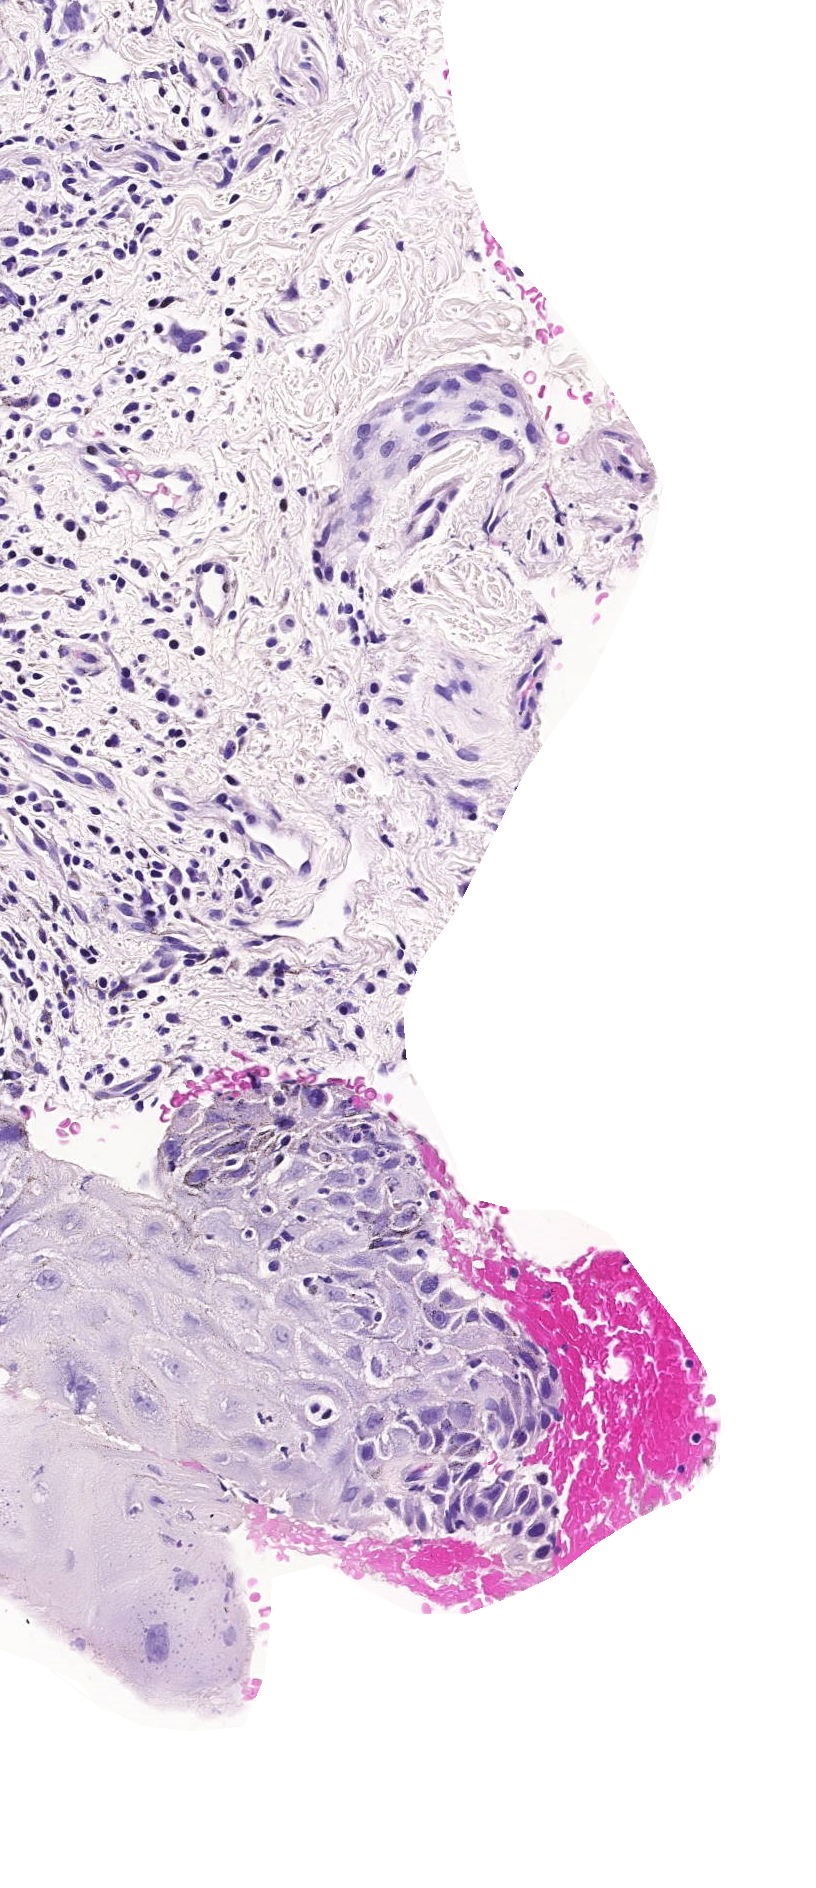epithelial: (156, 1638, 162, 1647), (138, 1398, 148, 1404), (175, 1262, 187, 1267), (241, 1298, 248, 1305), (469, 1444, 477, 1451), (490, 1317, 498, 1323), (278, 1331, 283, 1340), (130, 1087, 138, 1092), (351, 1349, 357, 1355), (45, 1275, 51, 1281), (290, 1299, 296, 1305), (536, 1527, 542, 1533), (477, 1506, 483, 1512), (253, 1441, 261, 1445), (309, 1208, 318, 1211), (162, 1536, 168, 1541), (175, 1365, 179, 1371), (70, 1220, 76, 1225), (427, 1414, 433, 1418), (527, 1506, 533, 1511), (437, 1312, 440, 1320), (182, 1579, 187, 1583), (317, 1355, 321, 1359), (442, 1294, 447, 1299), (526, 1357, 531, 1362), (469, 1469, 474, 1474), (67, 1554, 71, 1560), (338, 1274, 344, 1278), (187, 1316, 193, 1320), (388, 1161, 394, 1164), (227, 1630, 230, 1638), (153, 1497, 158, 1500), (278, 1464, 285, 1467), (319, 1430, 323, 1435), (428, 1282, 432, 1287), (528, 1421, 532, 1426), (505, 1410, 508, 1417), (459, 1438, 466, 1440), (338, 1199, 343, 1203), (338, 1175, 342, 1180), (359, 1152, 363, 1156), (314, 1096, 318, 1101), (468, 1499, 471, 1505), (195, 1175, 201, 1178), (153, 1467, 156, 1470), (362, 1310, 366, 1314), (284, 1120, 288, 1123), (167, 1144, 171, 1147), (344, 1320, 349, 1322), (531, 1343, 533, 1347), (545, 1383, 546, 1393), (424, 1436, 426, 1441), (442, 1479, 444, 1483), (100, 1095, 105, 1097), (153, 1225, 156, 1227), (335, 1293, 338, 1296), (410, 1422, 413, 1426), (521, 1495, 524, 1499), (149, 1076, 153, 1079), (125, 1082, 129, 1085), (422, 1518, 424, 1524), (552, 1369, 554, 1374), (545, 1417, 546, 1421), (434, 1498, 438, 1499), (219, 1457, 221, 1458), (505, 1474, 507, 1476), (527, 1390, 528, 1392), (156, 1068, 158, 1070), (323, 1246, 324, 1247)
fibroblast and endothelial: (384, 447, 391, 453), (420, 406, 428, 411), (422, 503, 428, 509), (622, 468, 628, 474), (250, 161, 255, 169), (40, 932, 45, 939), (531, 427, 534, 436), (403, 675, 409, 680), (505, 470, 510, 476), (146, 157, 153, 160), (462, 754, 469, 757), (32, 720, 37, 725), (104, 778, 108, 783), (176, 791, 181, 796), (64, 179, 70, 183), (20, 271, 26, 275), (79, 732, 85, 736), (81, 778, 87, 781), (122, 908, 128, 911), (177, 873, 181, 879), (175, 806, 181, 809), (434, 437, 440, 441), (521, 675, 525, 682), (146, 73, 154, 76), (323, 282, 326, 287), (104, 476, 107, 480), (39, 747, 43, 750), (37, 840, 42, 844), (144, 896, 149, 899), (155, 787, 159, 792), (236, 824, 240, 828), (5, 958, 8, 963), (20, 972, 24, 977), (487, 433, 492, 437), (428, 387, 433, 390), (475, 405, 483, 407), (347, 275, 350, 279), (156, 865, 162, 867), (252, 942, 258, 944), (144, 966, 150, 968), (168, 939, 175, 942), (181, 946, 187, 949), (509, 387, 512, 393), (357, 1029, 361, 1033), (93, 164, 96, 167), (262, 149, 266, 153), (270, 321, 273, 325), (205, 566, 208, 570), (71, 604, 75, 608), (6, 694, 10, 697), (67, 760, 71, 763), (413, 459, 416, 462), (504, 407, 508, 411), (536, 654, 539, 657), (170, 1017, 175, 1020), (255, 118, 260, 120), (120, 179, 125, 182), (164, 301, 168, 303), (318, 347, 320, 352), (129, 405, 134, 407), (104, 446, 106, 450), (112, 461, 117, 464), (317, 571, 319, 576), (327, 571, 329, 580), (25, 691, 30, 694), (87, 657, 91, 660), (22, 846, 26, 849), (162, 962, 167, 964), (450, 384, 455, 387), (469, 374, 474, 377), (525, 720, 527, 725), (465, 685, 469, 688), (408, 966, 410, 969), (39, 54, 41, 58), (296, 23, 300, 25), (282, 79, 285, 82), (178, 144, 182, 147), (14, 87, 17, 90), (277, 154, 279, 158), (227, 175, 229, 182), (231, 279, 233, 283), (144, 433, 147, 437), (90, 449, 94, 452), (112, 485, 116, 488), (159, 472, 162, 474), (326, 532, 329, 536), (36, 757, 39, 761), (137, 926, 141, 928), (153, 978, 155, 981), (396, 700, 400, 702), (321, 194, 324, 197), (537, 684, 539, 688), (85, 466, 91, 467), (20, 562, 26, 564), (422, 427, 424, 433), (256, 1033, 261, 1034), (398, 939, 401, 942), (47, 22, 48, 26), (250, 49, 252, 54), (313, 79, 315, 82), (232, 138, 237, 140), (154, 183, 156, 185), (314, 228, 317, 230), (26, 250, 31, 252), (65, 372, 67, 374), (14, 415, 17, 418), (66, 562, 69, 565), (301, 490, 303, 492), (317, 555, 318, 560), (218, 568, 220, 571), (146, 621, 150, 623), (11, 706, 13, 708), (283, 663, 284, 668), (60, 775, 63, 778), (226, 806, 229, 808), (14, 977, 17, 979), (175, 978, 176, 983), (215, 968, 218, 970), (363, 429, 365, 433), (607, 465, 608, 470), (480, 366, 483, 368), (380, 173, 383, 176), (268, 1027, 272, 1028), (400, 951, 401, 955), (201, 157, 205, 158), (173, 155, 177, 157), (64, 169, 67, 170), (107, 214, 111, 216), (32, 299, 34, 302), (75, 409, 78, 411), (242, 728, 243, 732), (442, 505, 443, 508), (492, 524, 493, 527), (505, 442, 507, 446), (339, 60, 341, 64), (273, 1039, 274, 1042), (308, 1028, 311, 1029), (55, 42, 57, 45), (84, 46, 85, 48), (144, 31, 147, 33), (182, 65, 183, 67), (126, 78, 128, 81), (19, 138, 22, 140), (37, 138, 40, 140), (26, 126, 28, 129), (51, 144, 52, 147), (94, 136, 96, 137), (67, 189, 70, 190), (168, 512, 170, 514), (49, 557, 51, 560), (18, 633, 20, 635), (71, 682, 73, 683), (410, 172, 412, 175), (555, 641, 557, 642), (536, 669, 537, 672), (209, 132, 211, 134), (7, 142, 8, 143), (66, 225, 67, 226), (101, 223, 102, 224), (197, 568, 199, 570)
inflammatory: (188, 336, 196, 342), (69, 12, 73, 20), (8, 238, 14, 243), (253, 846, 258, 852), (100, 505, 104, 512), (116, 252, 122, 255), (43, 432, 49, 436), (431, 1192, 436, 1196), (347, 775, 351, 779), (140, 165, 144, 169), (24, 229, 29, 232), (182, 346, 187, 349), (24, 182, 30, 184), (304, 865, 307, 871), (265, 880, 267, 886), (325, 1414, 329, 1417), (201, 55, 205, 59), (268, 642, 272, 645), (14, 663, 18, 667), (248, 818, 252, 821), (391, 1500, 394, 1505), (373, 684, 376, 689), (190, 252, 193, 256), (71, 884, 76, 886), (172, 826, 177, 828), (416, 585, 419, 590), (376, 1362, 377, 1370), (314, 1406, 317, 1410), (694, 1435, 698, 1438), (221, 70, 224, 73), (30, 205, 32, 208), (26, 313, 30, 315), (290, 291, 292, 295), (53, 399, 57, 401), (67, 524, 71, 526), (289, 621, 292, 624), (161, 632, 165, 635), (266, 848, 270, 850), (65, 1010, 67, 1014), (374, 1418, 376, 1424), (367, 1449, 368, 1455), (215, 8, 221, 10), (26, 73, 28, 79), (227, 346, 233, 347), (680, 1467, 682, 1469), (513, 1270, 515, 1273), (160, 695, 162, 697), (28, 160, 32, 161), (158, 326, 160, 329), (188, 414, 190, 417), (276, 480, 278, 483), (87, 862, 88, 867), (138, 226, 142, 228), (132, 246, 134, 249), (177, 332, 181, 334), (215, 367, 219, 368), (168, 377, 172, 378), (623, 458, 625, 461), (343, 1010, 345, 1011), (170, 700, 171, 702), (215, 60, 218, 61), (301, 195, 302, 197), (13, 326, 16, 328), (107, 342, 108, 344), (240, 340, 242, 341), (688, 1362, 690, 1363), (119, 337, 120, 338), (26, 431, 28, 432)
lymphocyte: (472, 1312, 474, 1320), (473, 1361, 477, 1365), (265, 1206, 270, 1210), (63, 1080, 66, 1085), (227, 778, 232, 781), (324, 706, 326, 713), (93, 808, 97, 812), (23, 819, 26, 824), (12, 883, 14, 890), (28, 981, 31, 986), (122, 1062, 128, 1064), (252, 714, 258, 716), (60, 1003, 66, 1005), (283, 1447, 286, 1451), (555, 1414, 558, 1417), (140, 1102, 143, 1105), (123, 1007, 126, 1010), (28, 872, 31, 875), (146, 228, 149, 231), (195, 346, 199, 349), (2, 771, 6, 774), (378, 1312, 380, 1317), (107, 1076, 110, 1081), (138, 992, 143, 995), (254, 898, 259, 901), (116, 146, 120, 148), (79, 532, 82, 537), (152, 602, 156, 604), (166, 594, 171, 596), (360, 612, 362, 616), (259, 1415, 262, 1417), (272, 1263, 274, 1267), (247, 1231, 250, 1233), (325, 1278, 329, 1280), (298, 1216, 302, 1219), (278, 1157, 280, 1161), (277, 1099, 280, 1102), (285, 1139, 288, 1143), (235, 1016, 238, 1019), (112, 1008, 114, 1011), (142, 849, 144, 852), (91, 826, 95, 828), (113, 848, 117, 850), (221, 834, 224, 838), (181, 741, 183, 744), (360, 769, 362, 773), (172, 642, 175, 645), (270, 12, 273, 14), (203, 110, 206, 113), (97, 271, 100, 275), (58, 330, 61, 332), (93, 315, 95, 319), (11, 455, 14, 458), (122, 448, 124, 452), (221, 495, 224, 498), (31, 795, 34, 798), (39, 822, 42, 825), (67, 967, 71, 969), (46, 1028, 49, 1031), (421, 754, 425, 756), (73, 690, 79, 691), (274, 1241, 277, 1244), (313, 1287, 314, 1292), (360, 1179, 362, 1181), (278, 981, 283, 983), (102, 979, 104, 984), (83, 950, 85, 952), (188, 961, 193, 962), (225, 862, 227, 865), (75, 859, 77, 861), (29, 952, 31, 955), (54, 898, 55, 903), (176, 732, 178, 734), (75, 748, 77, 750), (160, 90, 162, 93), (52, 210, 54, 212), (19, 300, 22, 302), (155, 275, 158, 277), (227, 309, 230, 312), (150, 302, 155, 303), (233, 353, 236, 355), (138, 373, 141, 376), (128, 378, 130, 380), (30, 467, 32, 470), (36, 550, 39, 553), (11, 553, 13, 555), (134, 564, 136, 566), (120, 582, 123, 584), (19, 679, 22, 682), (51, 728, 52, 733), (18, 800, 20, 802), (36, 806, 39, 808), (71, 992, 73, 995), (348, 606, 350, 608), (344, 574, 345, 579), (319, 679, 321, 682), (285, 1233, 286, 1237), (229, 1162, 232, 1163), (159, 998, 162, 999), (32, 992, 34, 996), (138, 873, 140, 877), (156, 872, 158, 875), (363, 706, 365, 709), (267, 33, 268, 36), (237, 61, 238, 65), (8, 432, 10, 436), (117, 426, 120, 427), (5, 544, 8, 545), (240, 474, 241, 478), (232, 613, 233, 616), (143, 570, 144, 573), (45, 613, 46, 616), (82, 637, 85, 638), (472, 816, 475, 818), (134, 1508, 135, 1510), (41, 1489, 43, 1491), (39, 1470, 40, 1473), (306, 1279, 307, 1281), (474, 1382, 475, 1385), (542, 1477, 544, 1479), (419, 1251, 421, 1252), (323, 1188, 325, 1190), (87, 1074, 88, 1076), (144, 1015, 147, 1016), (175, 911, 176, 914), (172, 897, 173, 899), (129, 852, 130, 855), (237, 892, 240, 893), (113, 708, 114, 710), (199, 649, 200, 651), (125, 669, 126, 672), (173, 69, 175, 71), (102, 98, 104, 100), (51, 92, 53, 93), (67, 126, 70, 128), (132, 187, 134, 189), (226, 222, 227, 224), (61, 252, 63, 254), (85, 281, 87, 283), (19, 360, 20, 362), (14, 380, 17, 382), (134, 418, 135, 420), (126, 427, 128, 430), (167, 608, 168, 610), (164, 574, 165, 577), (113, 576, 114, 578), (30, 586, 32, 588), (36, 675, 39, 677), (11, 810, 13, 812), (126, 897, 129, 898), (64, 983, 66, 984), (58, 951, 60, 952), (398, 244, 400, 247), (141, 655, 142, 657), (268, 1417, 270, 1418), (382, 972, 383, 973), (76, 843, 77, 844), (176, 108, 177, 110), (184, 120, 185, 122), (85, 197, 87, 199), (224, 444, 225, 446), (2, 588, 4, 589), (59, 804, 60, 806)
